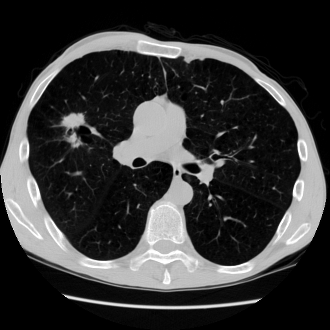nodule: (61, 116, 85, 140)
